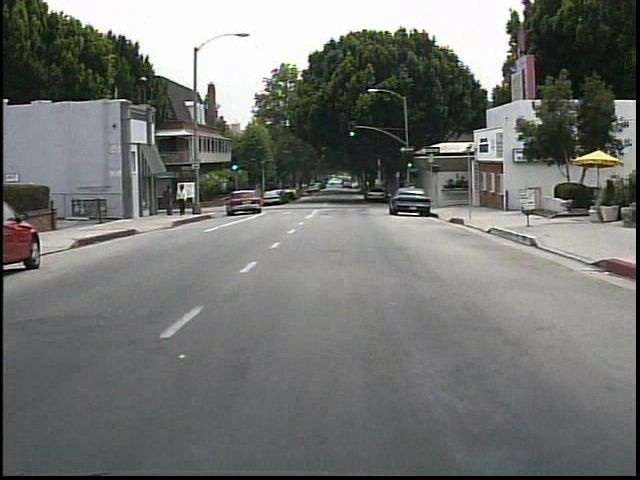person: (163, 184, 178, 217), (177, 185, 190, 216)
